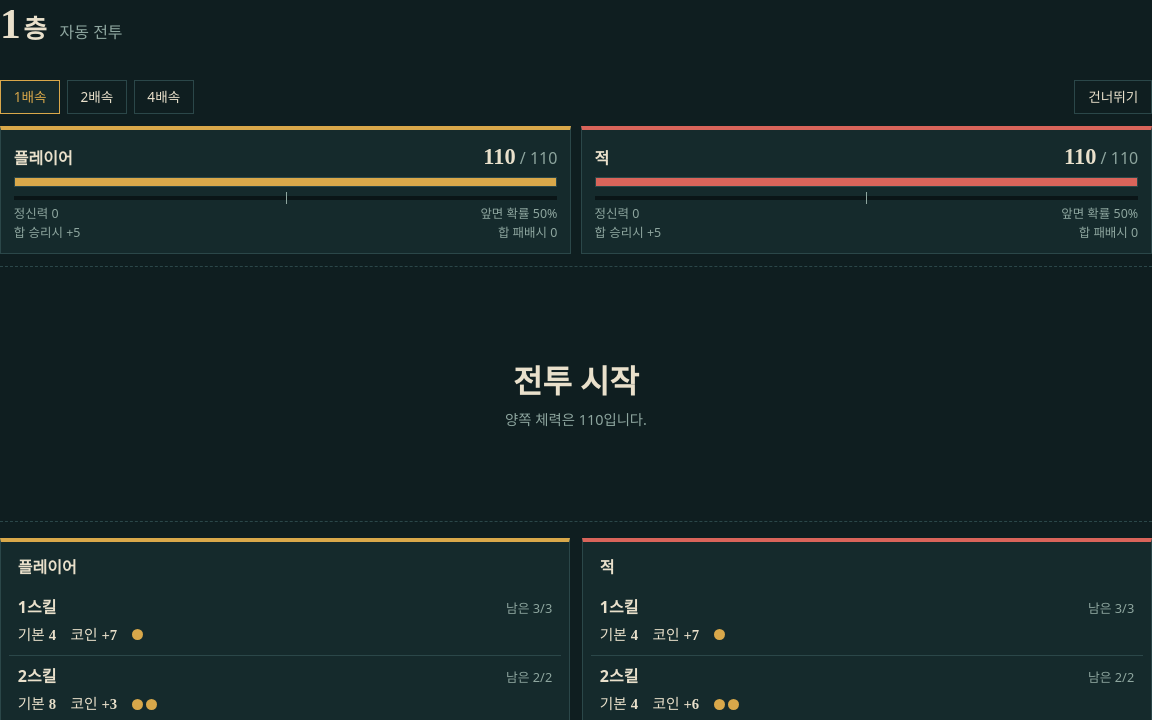
Test case: 재생 속도 › 배속을 올리면 같은 시간에 더 빨리 진행된다
Step 1. Click the button "4배속" → (164, 97), box [134, 80, 194, 114]
Wait 150 ms
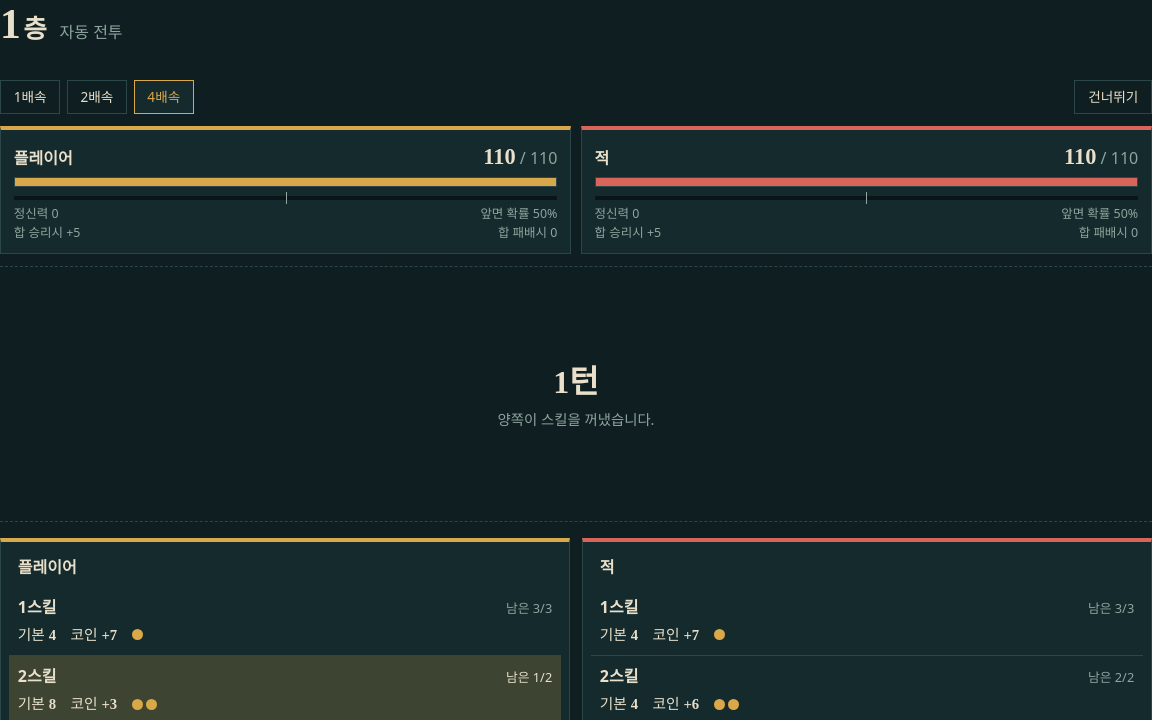
Now the text "1턴" is shown, box [553, 364, 599, 400]
